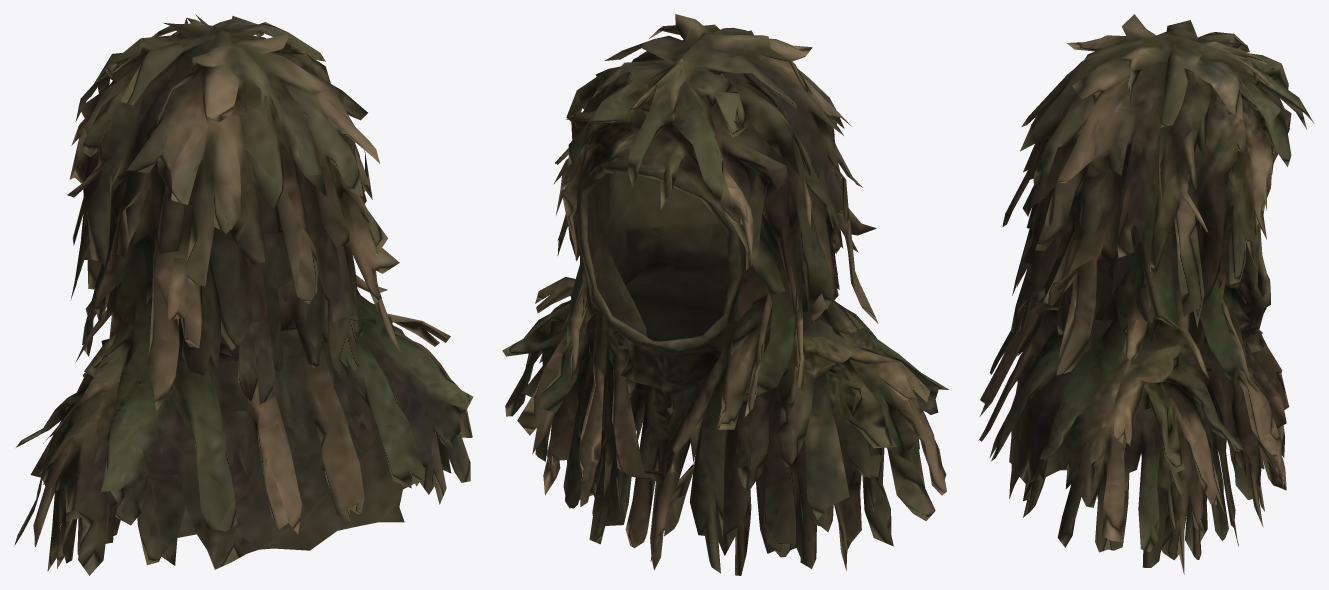
File: ghillie_hood.cc961fe058.glb
3 views of the same model, side by side, from view 1: azimuth 30°, elevation 25°; view 2: azimuth 150°, elevation 25°; view 3: azimuth 270°, elevation 25° (orthographic). The views are drawn at different scales.
Parts seen in each view (by area): view 1: ghillie_hood; view 2: ghillie_hood; view 3: ghillie_hood.
Boxes of the visible parts, x1,y1,x2,y2 form: ghillie_hood: [14, 14, 473, 575]; ghillie_hood: [502, 14, 949, 575]; ghillie_hood: [978, 14, 1314, 574].
Bounding box in the file's own units: 0.451 × 0.5 × 0.3186.
Materials: 1 (1 with a texture image).
